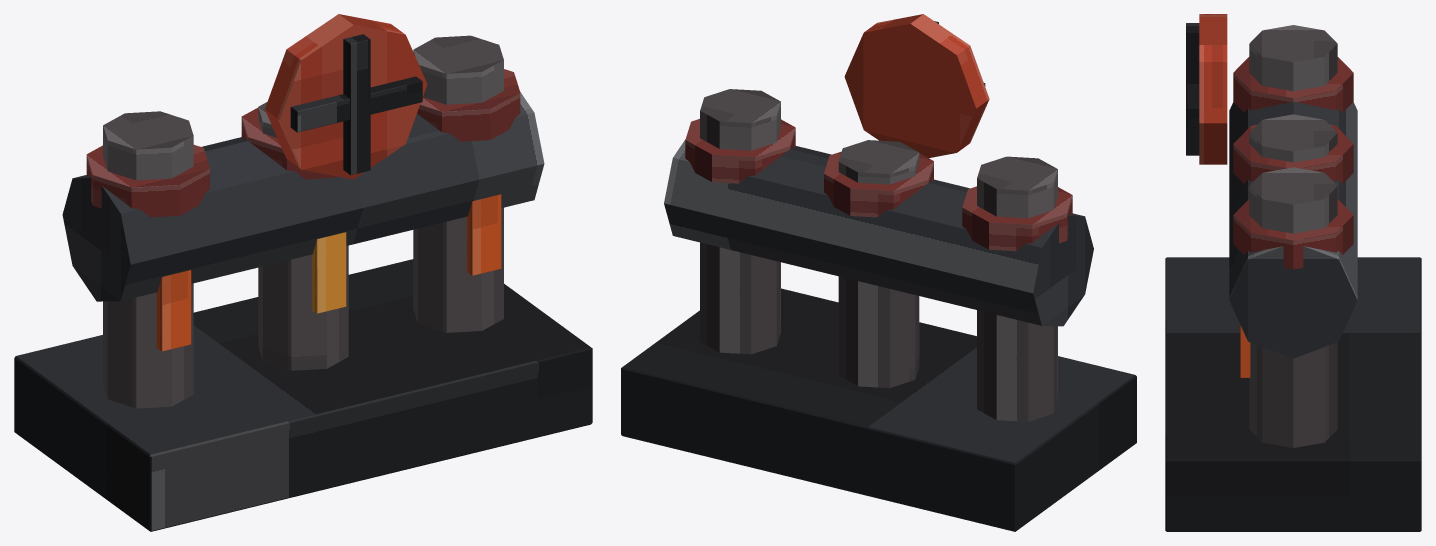
The model's file is lava_pipe_manifold.glb.
3 views of the same model, side by side, from view 1: azimuth 30°, elevation 25°; view 2: azimuth 150°, elevation 25°; view 3: azimuth 270°, elevation 25° (orthographic). The views are drawn at different scales.
Visible parts, largest first — view 1: PipeBase, MainPipe, PipeRiser_1, ValveWheel, PipeRiser_3, PipeRiser_2, PipeCollar_1, PipeCollar_3, ValveCrossV, ValveCrossH, HeatWindow_1, HeatWindow_3 (+2 smaller); view 2: PipeBase, MainPipe, ValveWheel, PipeRiser_1, PipeRiser_3, PipeRiser_2, PipeCollar_1, PipeCollar_2, PipeCollar_3; view 3: PipeBase, MainPipe, PipeRiser_3, PipeRiser_1, ValveWheel, PipeCollar_3, PipeRiser_2, PipeCollar_1, PipeCollar_2, ValveCrossV, ValveCrossH, HeatWindow_3.
Part boxes in pixels (x1,y1,x2,y2): PipeBase: (14, 259, 592, 531); MainPipe: (62, 92, 544, 301); PipeRiser_1: (103, 111, 193, 408); ValveWheel: (265, 14, 427, 179); PipeRiser_3: (413, 35, 503, 332); PipeRiser_2: (258, 102, 348, 370); PipeCollar_1: (86, 145, 209, 217); PipeCollar_3: (417, 69, 520, 141); ValveCrossV: (343, 34, 370, 175); ValveCrossH: (290, 76, 422, 132); HeatWindow_1: (156, 270, 191, 351); HeatWindow_3: (467, 194, 501, 275); PipeBase: (621, 288, 1136, 531); MainPipe: (664, 139, 1093, 326); ValveWheel: (844, 14, 989, 157); PipeRiser_1: (977, 156, 1057, 421); PipeRiser_3: (700, 89, 780, 354); PipeRiser_2: (838, 140, 919, 387); PipeCollar_1: (962, 186, 1072, 251); PipeCollar_2: (824, 151, 933, 217); PipeCollar_3: (685, 119, 795, 183); PipeBase: (1165, 257, 1421, 531); MainPipe: (1229, 101, 1357, 358); PipeRiser_3: (1249, 167, 1337, 447); PipeRiser_1: (1249, 25, 1337, 91); ValveWheel: (1199, 14, 1227, 164); PipeCollar_3: (1233, 199, 1353, 269); PipeRiser_2: (1249, 114, 1337, 162); PipeCollar_1: (1233, 57, 1353, 112); PipeCollar_2: (1233, 125, 1353, 183); ValveCrossV: (1186, 23, 1199, 155); ValveCrossH: (1187, 84, 1199, 127); HeatWindow_3: (1240, 325, 1250, 377).
Size of the model in its own units: 1.2 by 1.14 by 0.64.
1 material, 1 textured.
